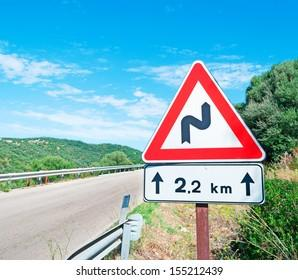Right Reverse Bend: (141, 58, 266, 159)
